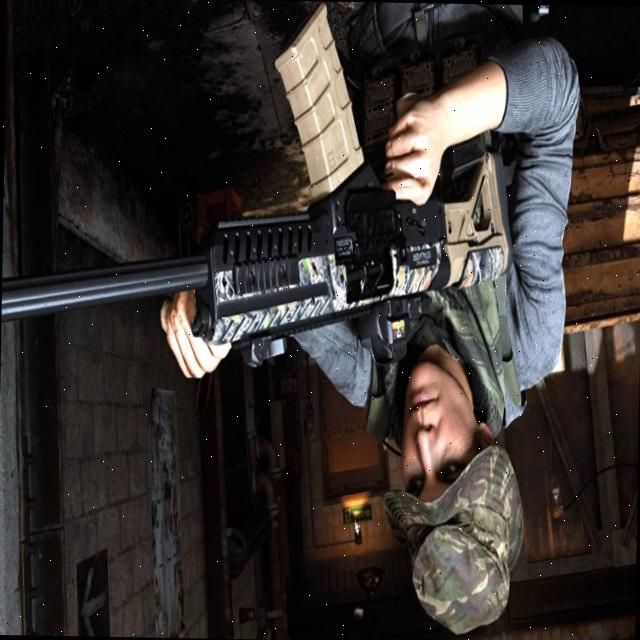Automaticrifle: (4, 13, 508, 376)
